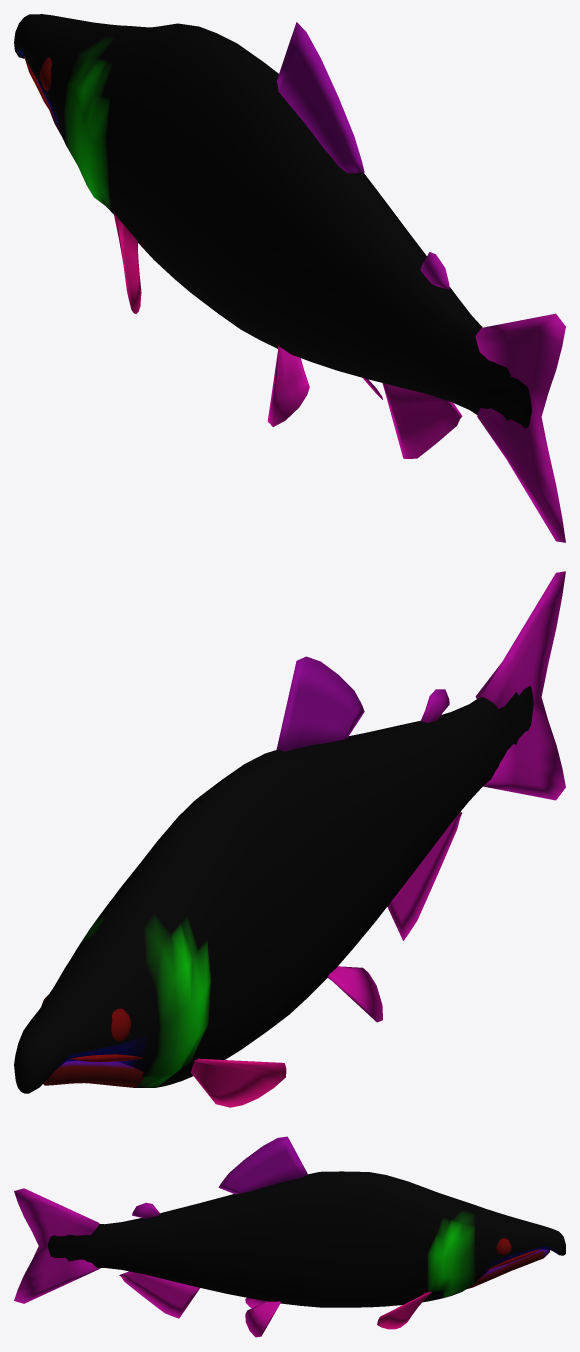
File: sockeye_spawner_game.glb
3 views of the same model, one above another, from view 1: azimuth 30°, elevation 25°; view 2: azimuth 150°, elevation 25°; view 3: azimuth 270°, elevation 25° (orthographic). The views are drawn at different scales.
Visible parts, largest first — view 1: sockeye_spawner_game; view 2: sockeye_spawner_game; view 3: sockeye_spawner_game.
Boxes of the visible parts, x1,y1,x2,y2 form: sockeye_spawner_game: (14, 14, 565, 542); sockeye_spawner_game: (14, 571, 565, 1107); sockeye_spawner_game: (14, 1136, 565, 1337).
Size of the model in its own units: 0.1001 by 0.2235 by 0.5968.
